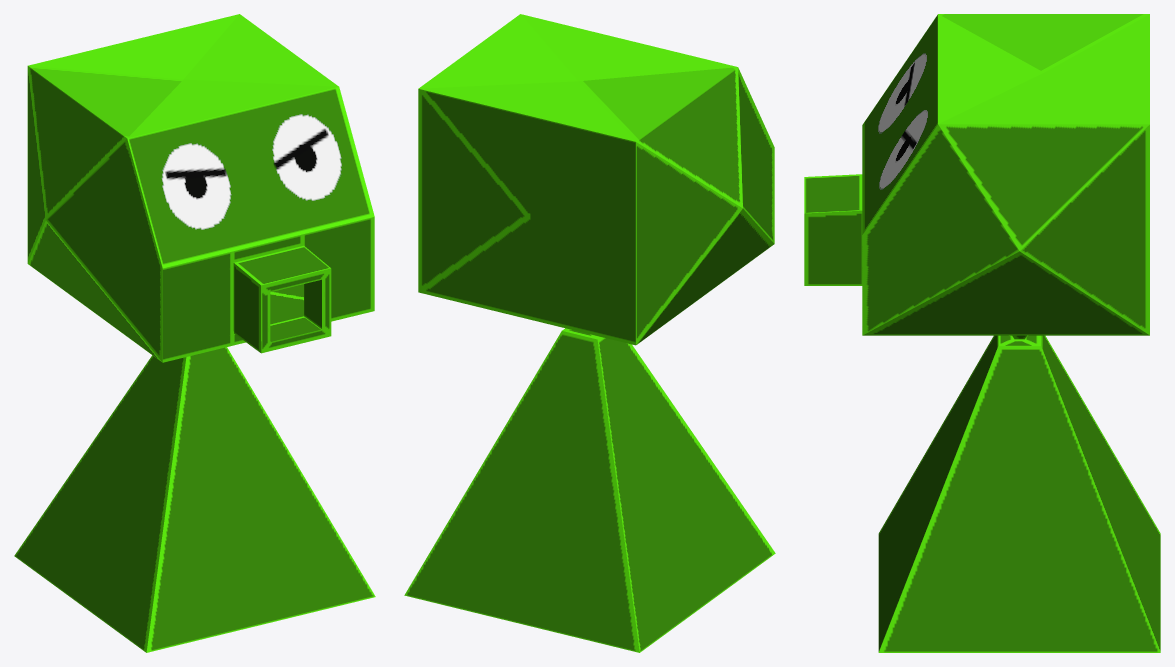
File: virus.fbx
3 views of the same model, side by side, from view 1: azimuth 30°, elevation 25°; view 2: azimuth 150°, elevation 25°; view 3: azimuth 270°, elevation 25° (orthographic). The views are drawn at different scales.
Visible parts, largest first — view 1: Cube; view 2: Cube; view 3: Cube.
Part boxes in pixels (bbox=[...]): Cube: bbox=[14, 14, 375, 652]; Cube: bbox=[404, 14, 775, 652]; Cube: bbox=[804, 14, 1160, 652].
Bounding box in the file's own units: 258 × 410 × 253.
Materials: 1 (1 with a texture image).
